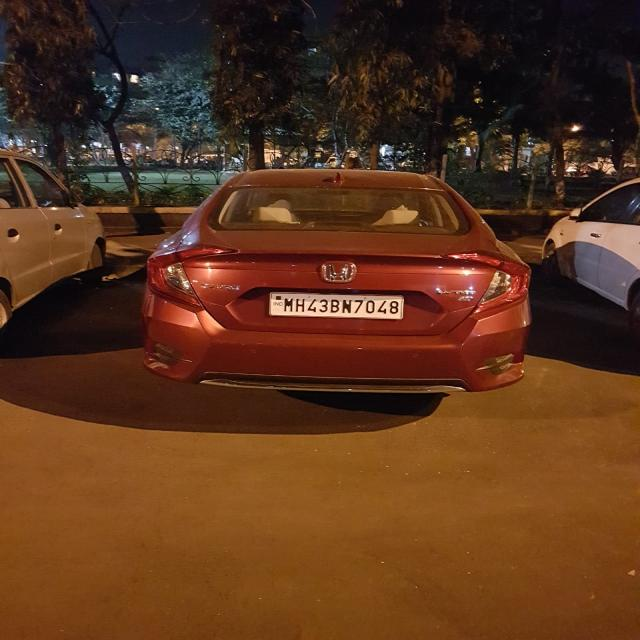Number-Plate: (276, 294, 404, 319)
